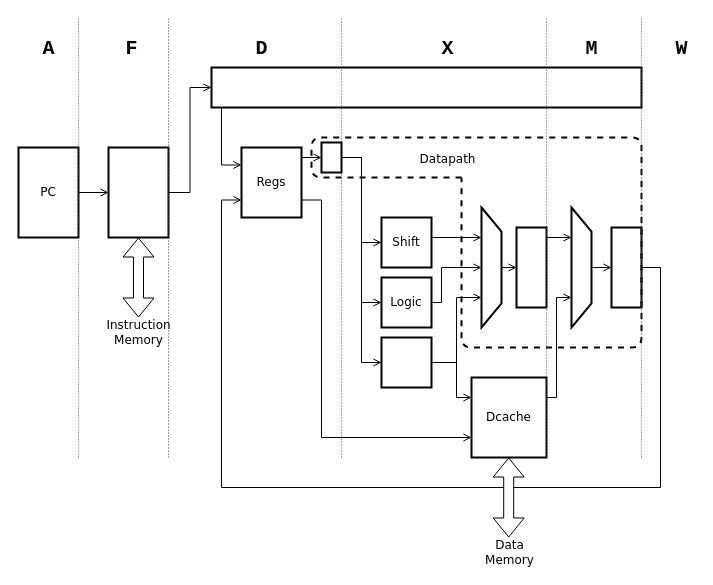
Some shapes in this 713 by 585 pixel diagram are drawn without their labels. Each missing label, with the box of its shape:
Arith: (380, 336, 432, 388)
Control: (210, 66, 642, 108)
Fetch: (107, 146, 169, 238)
